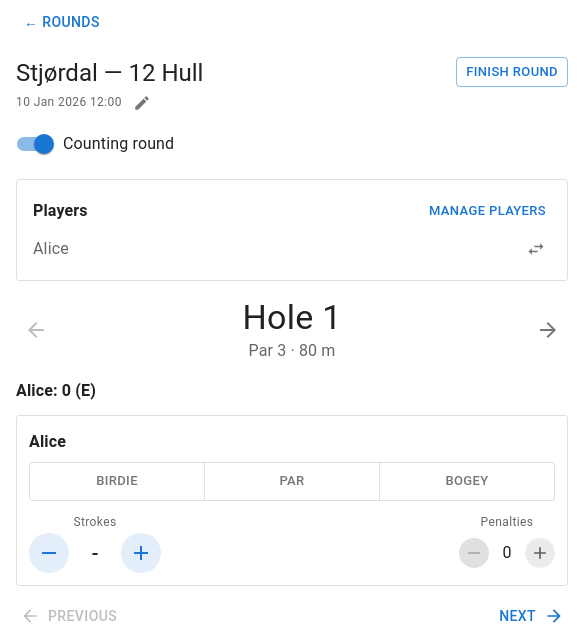
Test: RoundPage › shows the same running total on every hole, regardless of which one is being viewed
expect the heading "Hole 1" is shown: met, box x1=242 y1=297 x2=342 y2=339
Click the button "Birdie".
click(117, 481)  # box x1=29 y1=462 x2=205 y2=501
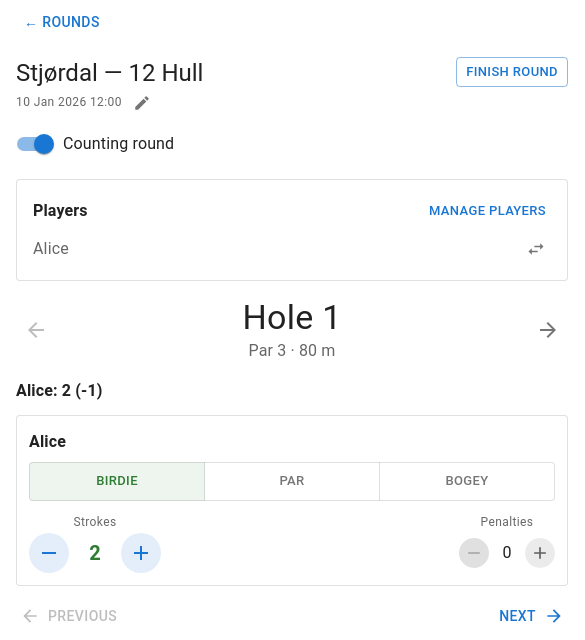
Click the button named "next hole".
click(548, 330)  # box x1=528 y1=310 x2=568 y2=350
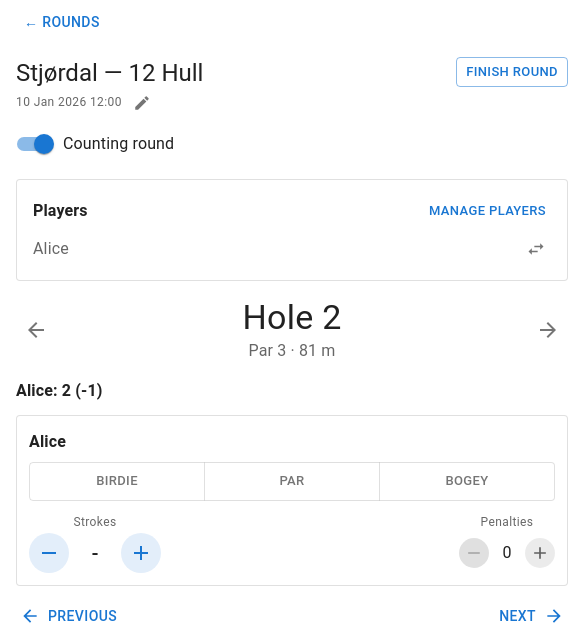
expect the heading "Hole 2" is shown: met, box x1=242 y1=297 x2=342 y2=339
Click the button "Par".
click(292, 481)  # box x1=204 y1=462 x2=380 y2=501
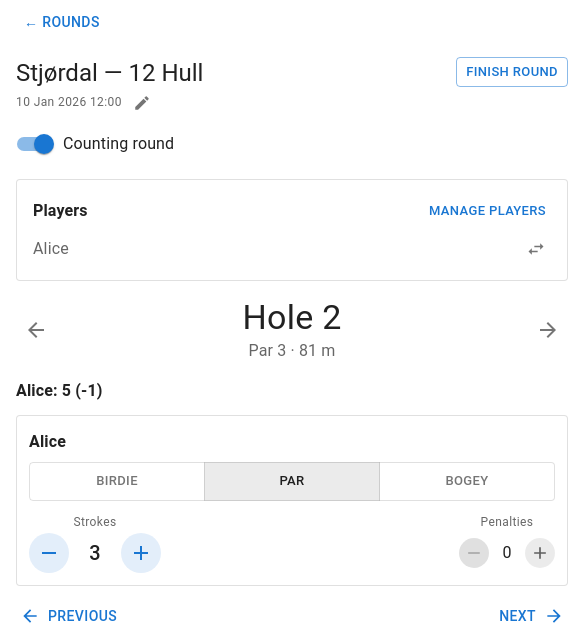
expect the text "Alice: 5 (-1)" is shown: met, box x1=16 y1=379 x2=103 y2=403
Click the button named "previous hole".
click(36, 330)  # box x1=16 y1=310 x2=56 y2=350
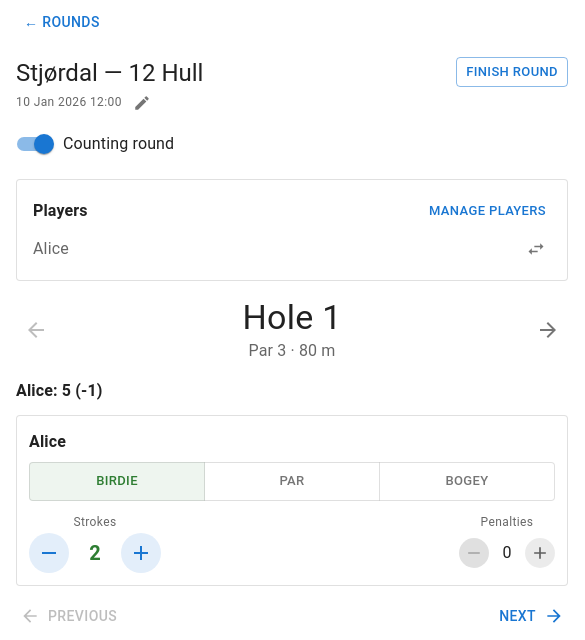
expect the text "Alice: 5 (-1)" is shown: met, box x1=16 y1=379 x2=103 y2=403
expect the heading "Hole 1" is shown: met, box x1=242 y1=297 x2=342 y2=339
